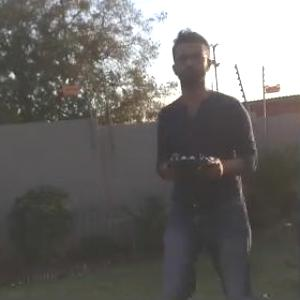follow: (149, 22, 263, 299)
